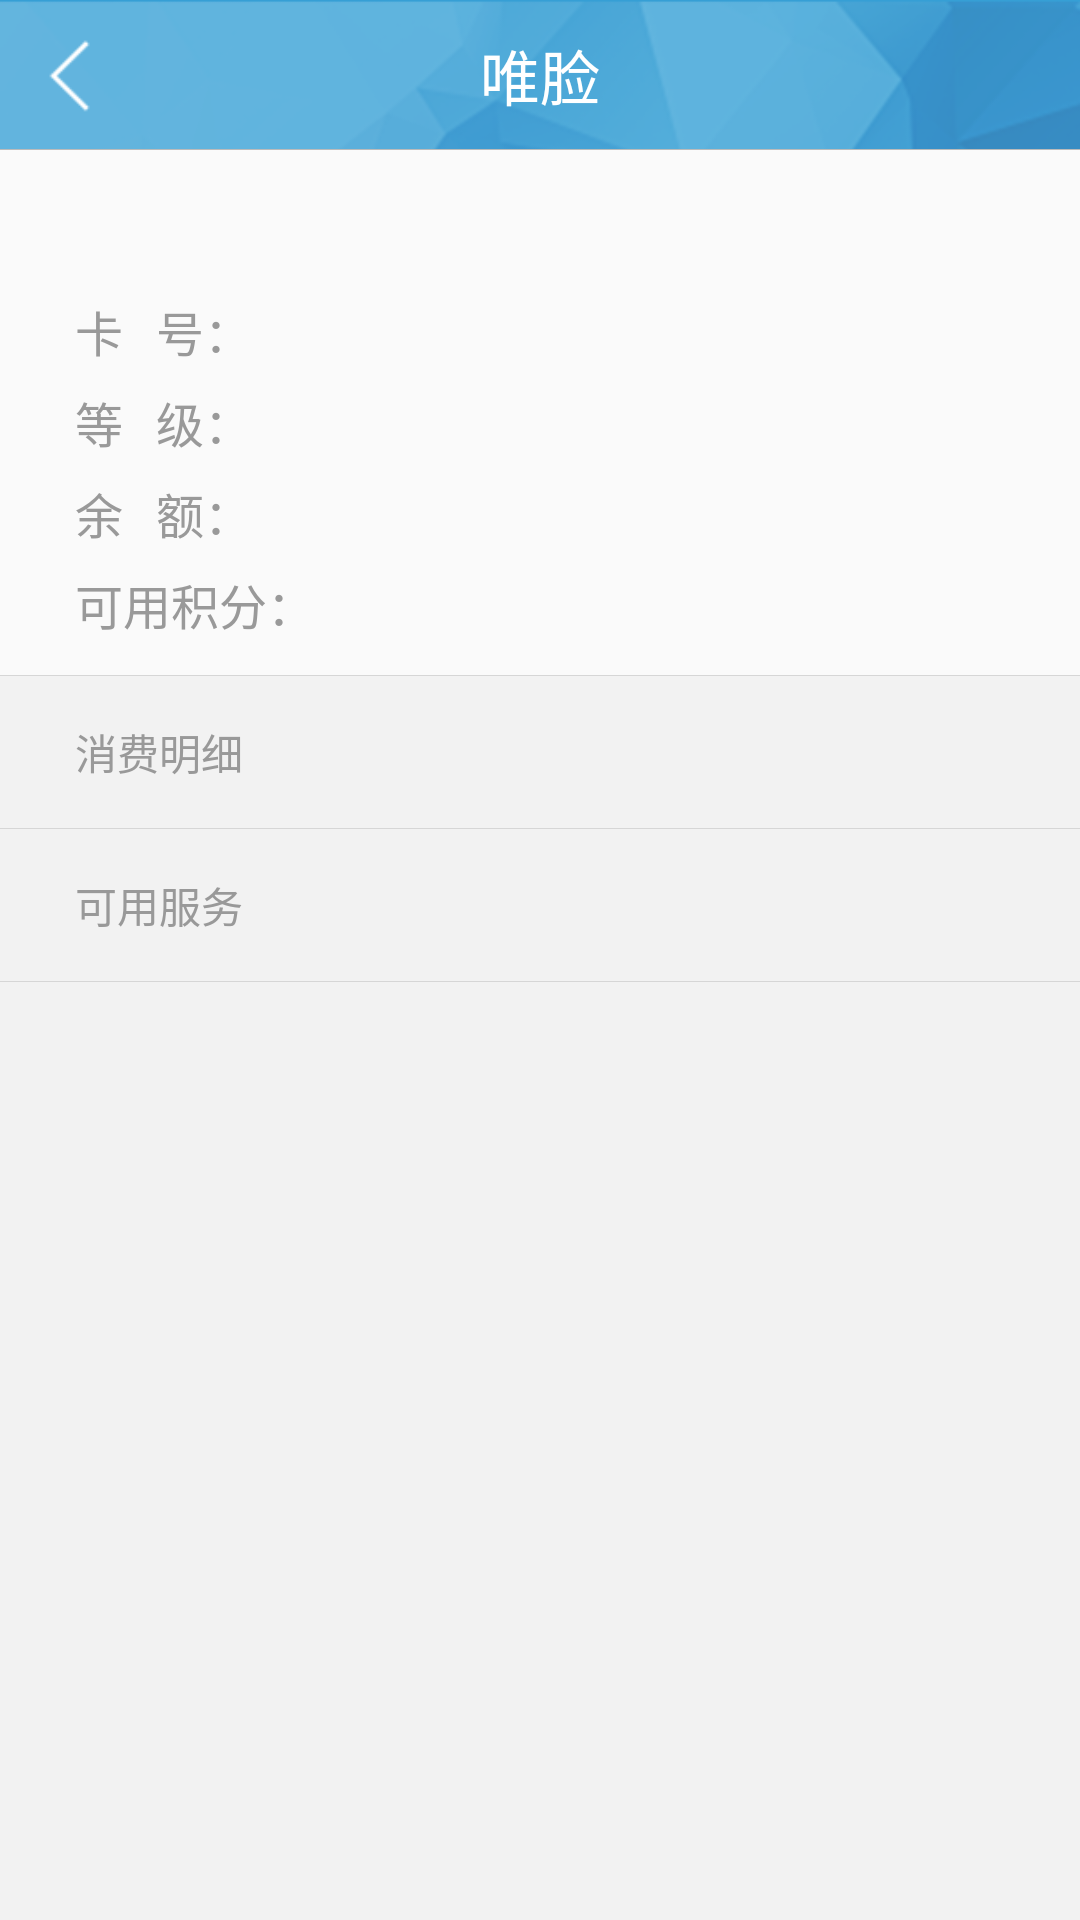

Screen size 1080px x 1920px. Icon name, then its center in pixels as point (x, y):
back: point (69, 76)
